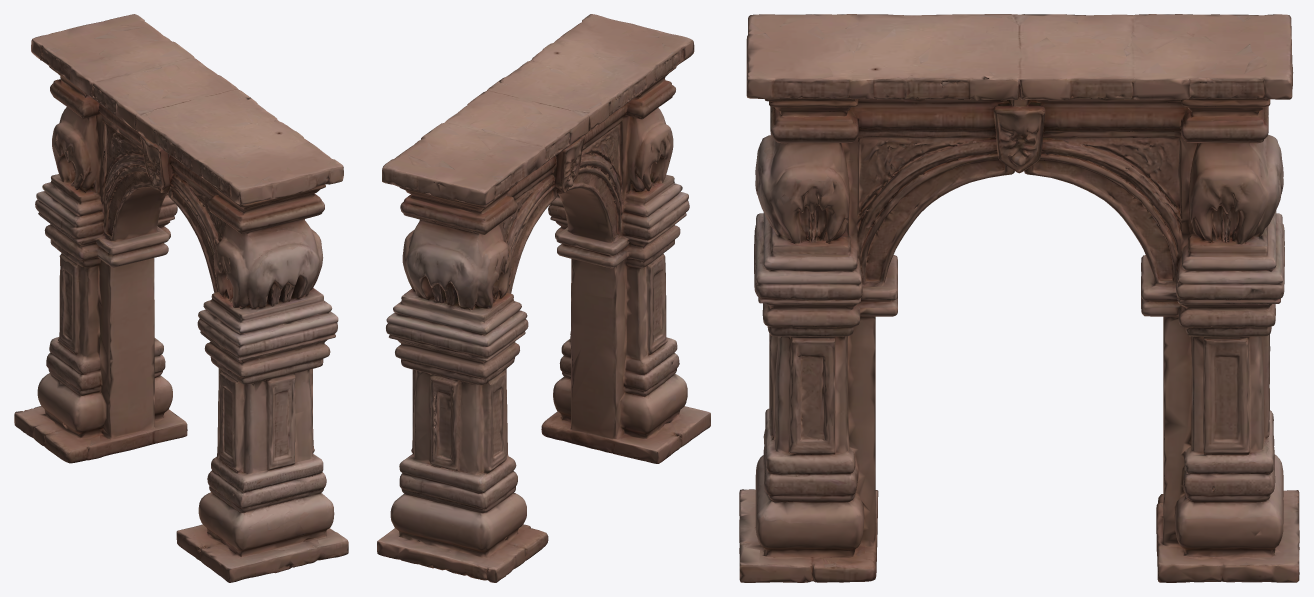
Rendered from aged-sandstone-archway-elephant-motif-optimized (1).glb.
3 views of the same model, side by side, from view 1: azimuth 30°, elevation 25°; view 2: azimuth 150°, elevation 25°; view 3: azimuth 270°, elevation 25° (orthographic). The views are drawn at different scales.
Visible parts, largest first — view 1: world; view 2: world; view 3: world.
Boxes of the visible parts, left/top/right/bottom form: world: left=14, top=14, right=348, bottom=582; world: left=377, top=14, right=710, bottom=582; world: left=739, top=14, right=1299, bottom=582.
Size of the model in its own units: 1.45 by 4.47 by 4.5.
Materials: 1 (1 with a texture image).
